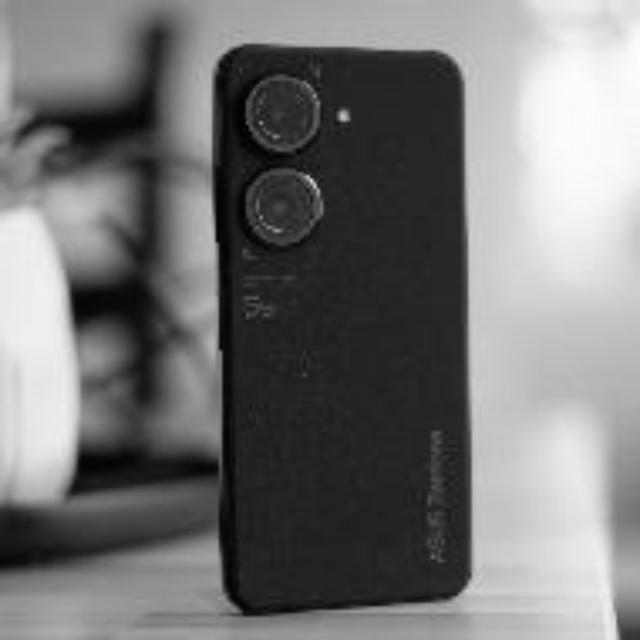fake: (220, 54, 466, 603)
